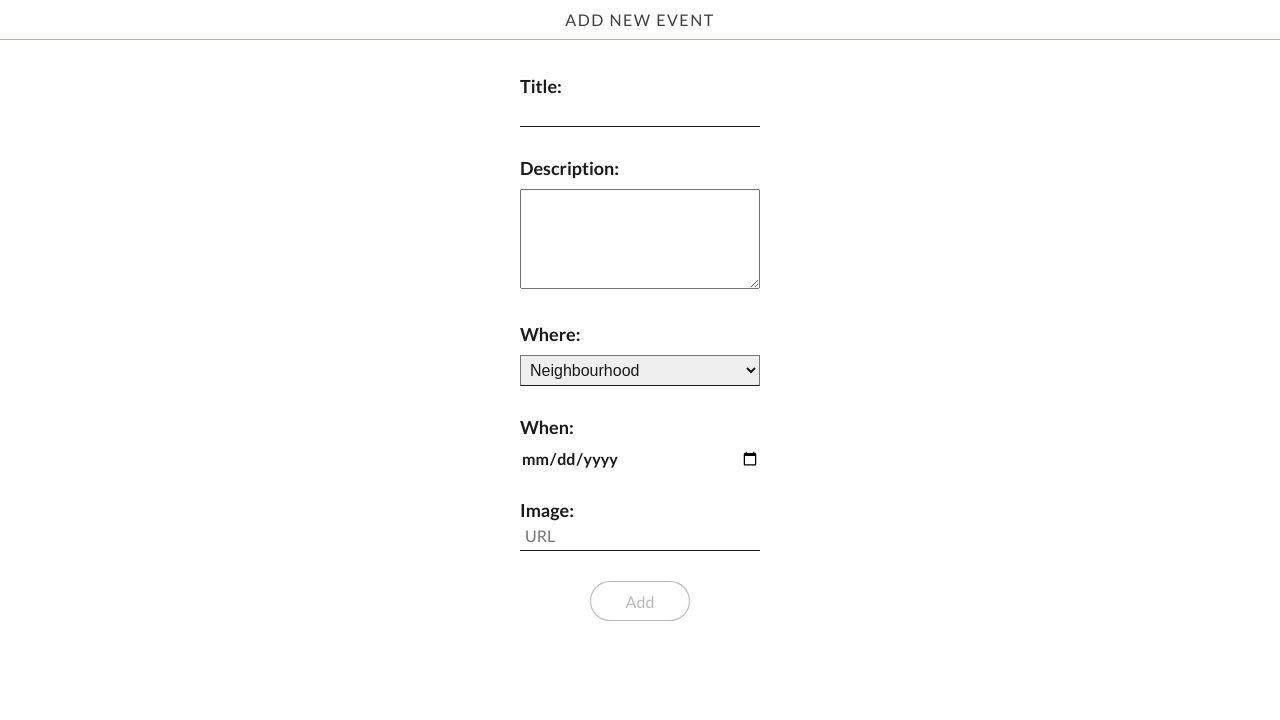
Test: Given an EventAddPage › When it is rendered and the handleOnClick function is invoked › Then it should redirect the user to the home page and show the title 'NOW IN BARCELONA'
In the field labelled "Title:": [640, 112] box [520,97,760,127], type "Concert in the park"
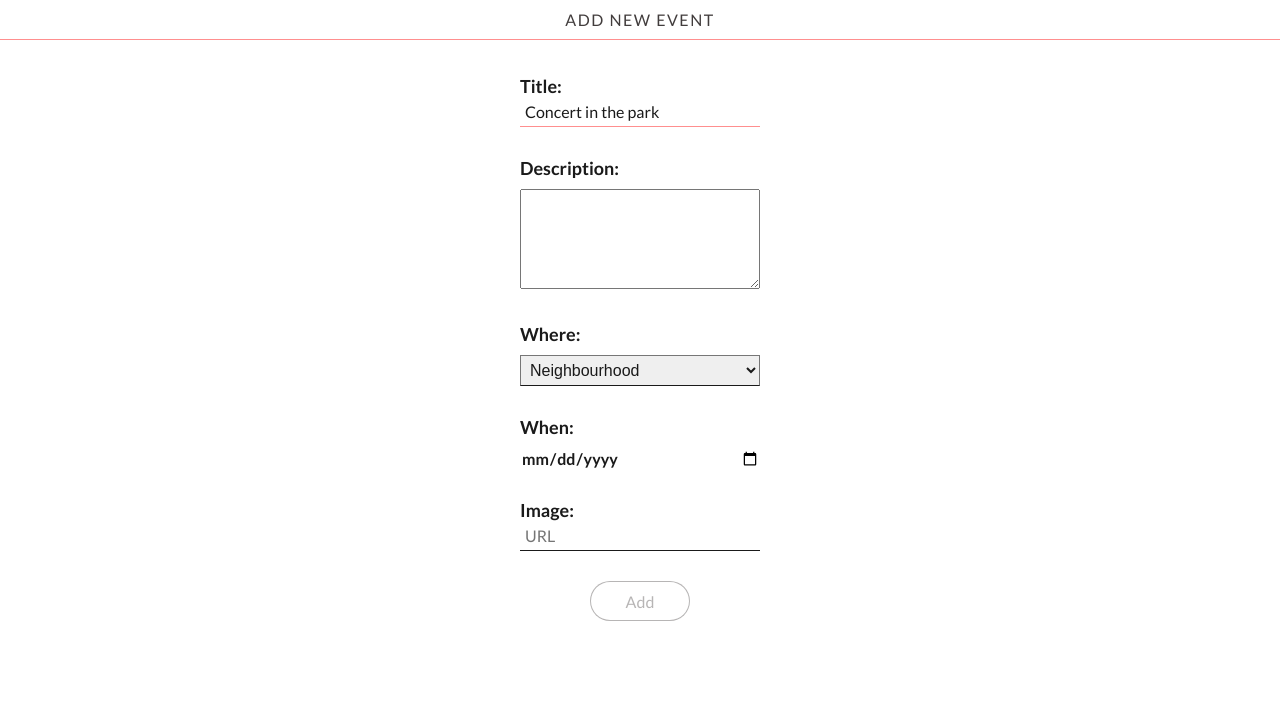
In the text box labelled "Description:": [640, 239] box [520,189,760,289], type "A very good afternoon of music"
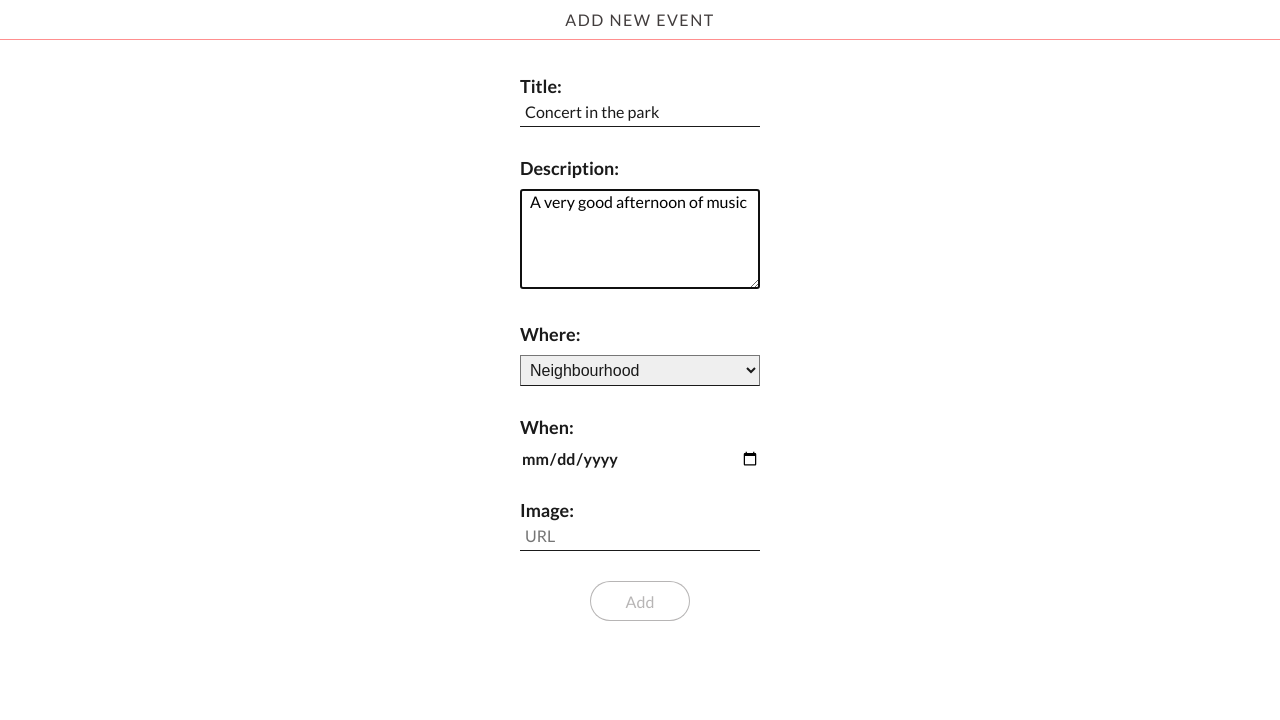
Select "El Born" in the dropdown labelled "Where:": [640, 370] box [520,355,760,386]
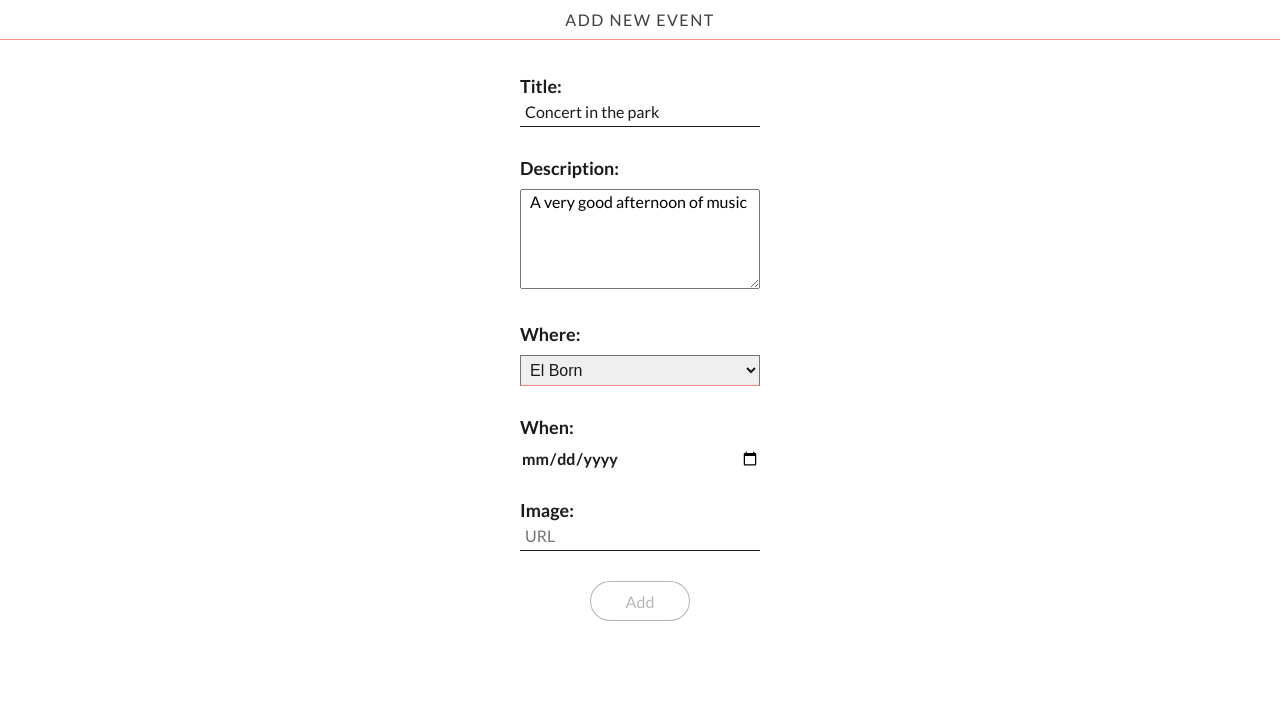
In the date field labelled "When:": [640, 458] box [520,448,760,469], type "2023-07-03"
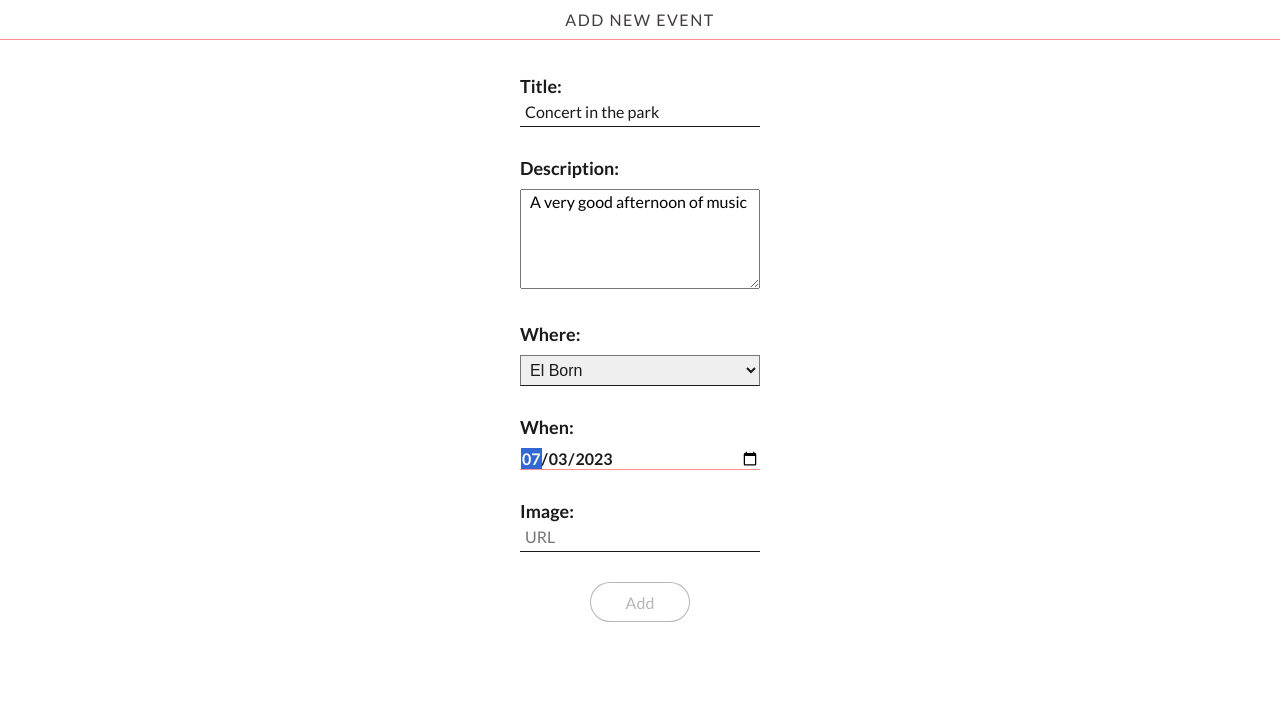
In the field labelled "Image:": [640, 537] box [520,522,760,552], type "https://cdn.discordapp.com/attachments/1096796306695008286/1115235166374350878/concierto.jpeg"
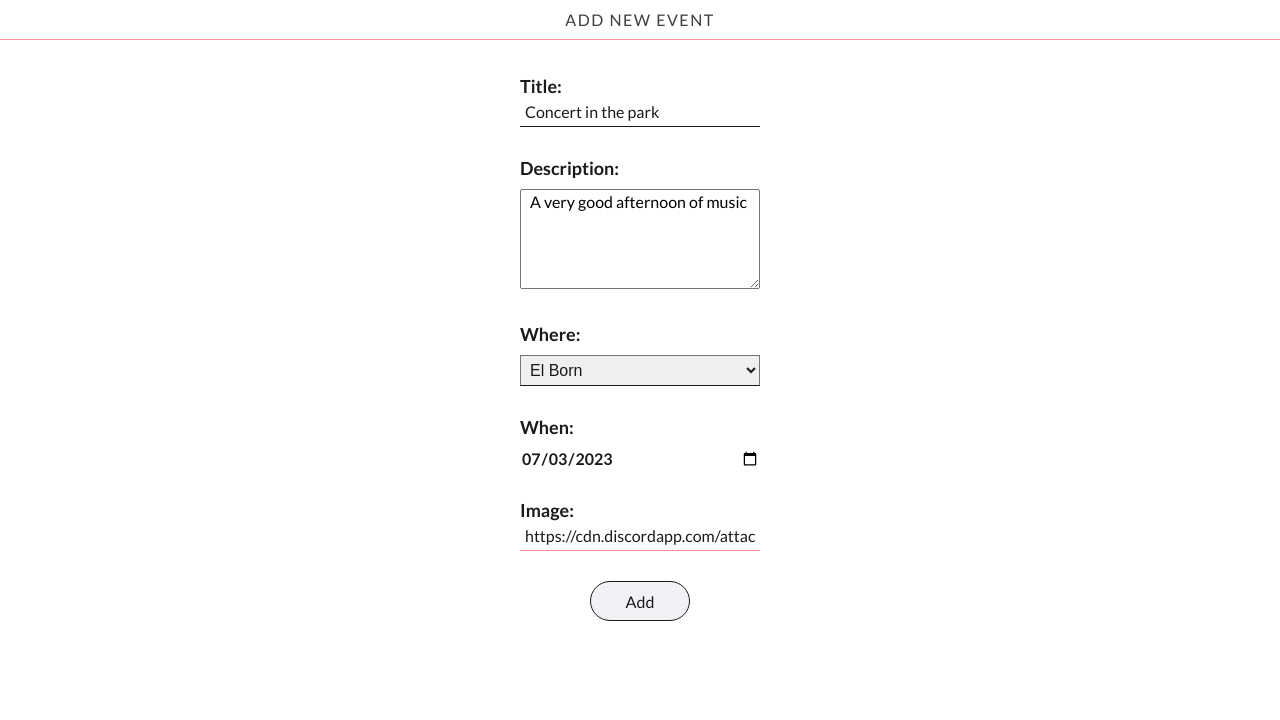
Check: the button "Add" is enabled
Click the button "Add": [640, 601] box [590,581,690,621]
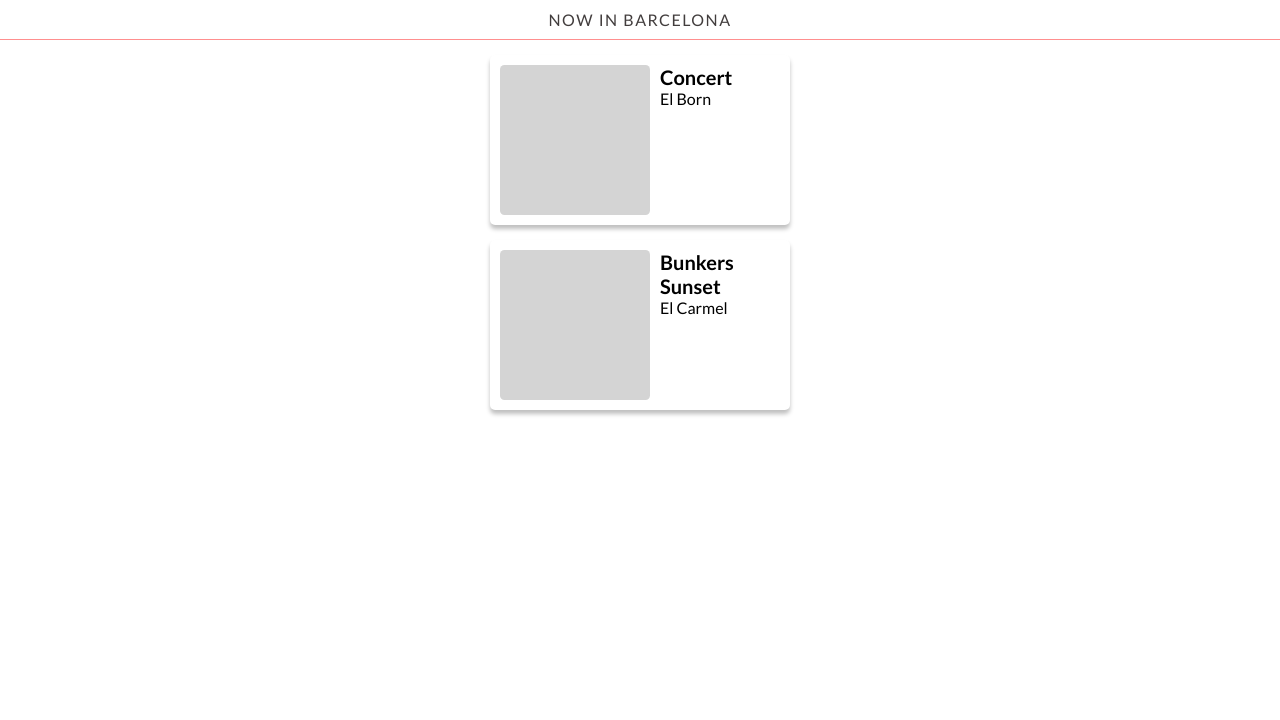
Check: the heading "NOW IN BARCELONA" is shown, box [0,0,1279,40]
